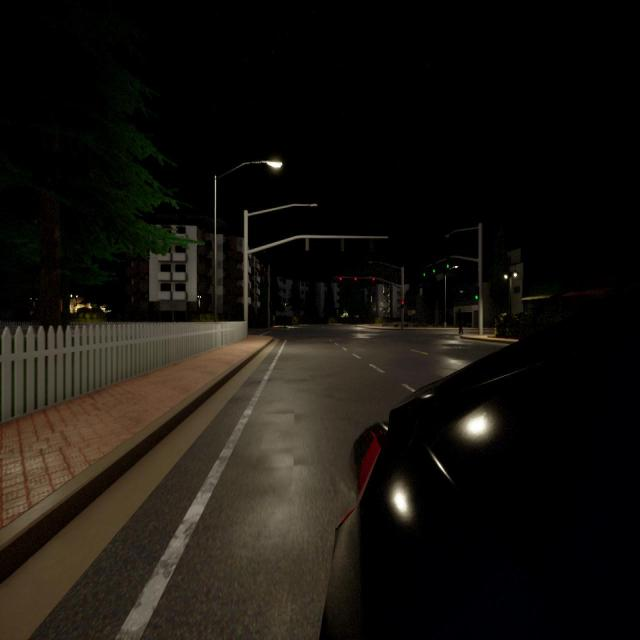Pedestrian: (456, 306, 464, 336)
Vehicle: (321, 288, 640, 640)
traffic_light: (305, 238, 309, 251), (401, 300, 404, 308), (447, 259, 449, 269), (433, 264, 435, 273), (372, 277, 376, 281), (475, 295, 478, 300), (424, 270, 426, 277), (354, 277, 357, 281), (340, 277, 342, 280)
